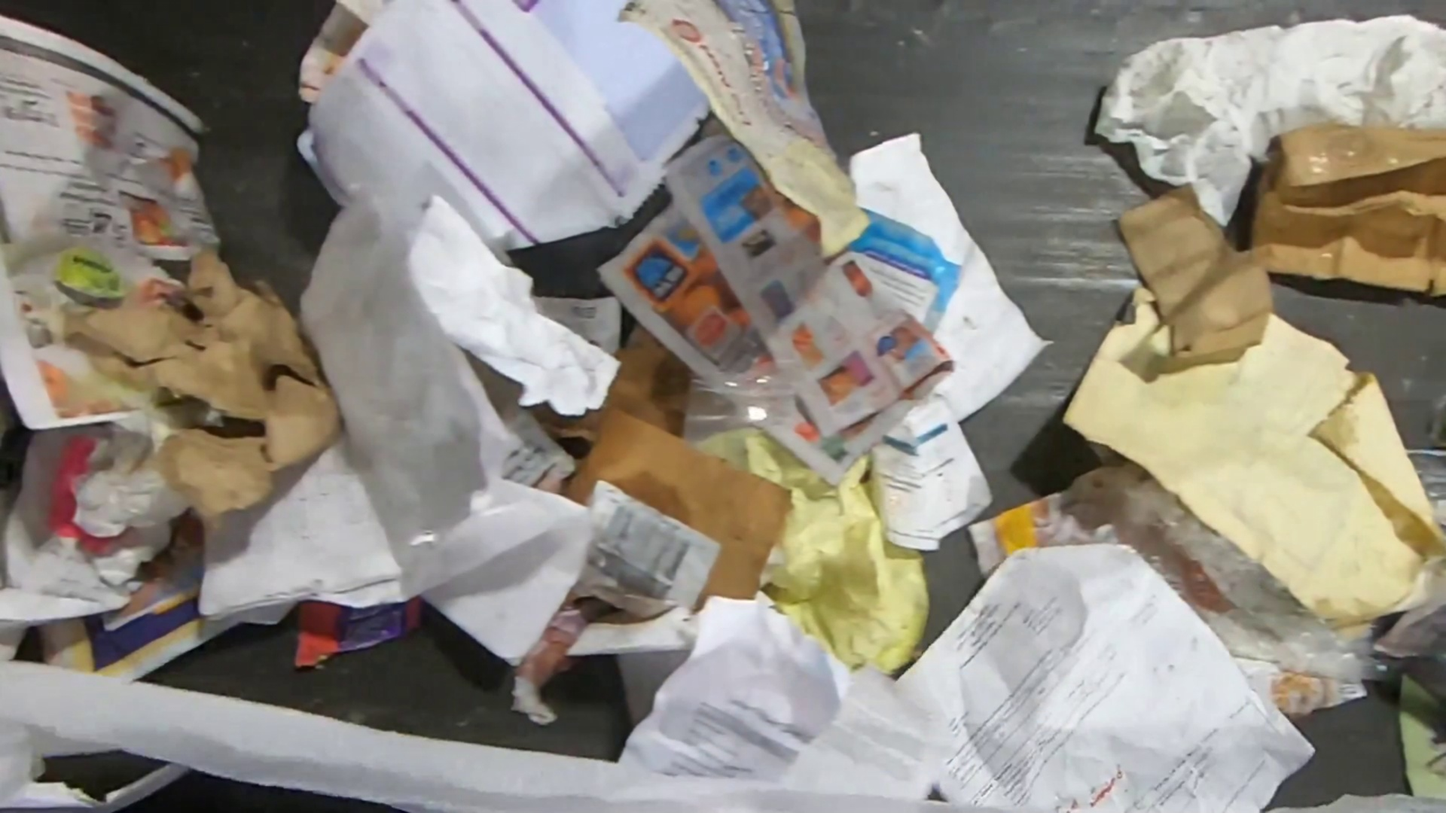cardboard: (66, 248, 343, 533), (532, 341, 792, 625), (1248, 119, 1446, 299), (1115, 181, 1277, 363)
plastic: (1115, 483, 1408, 685), (679, 357, 800, 444)
